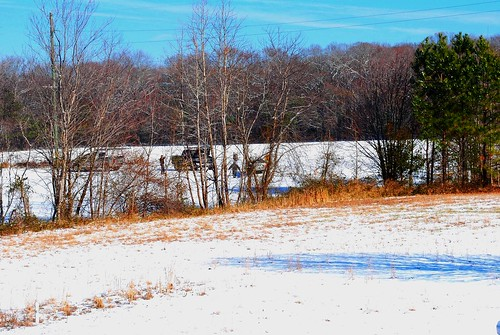sky: (1, 2, 489, 50)
tree: (1, 46, 111, 220), (382, 41, 500, 191), (183, 35, 278, 208), (86, 54, 186, 203), (284, 49, 379, 198)
